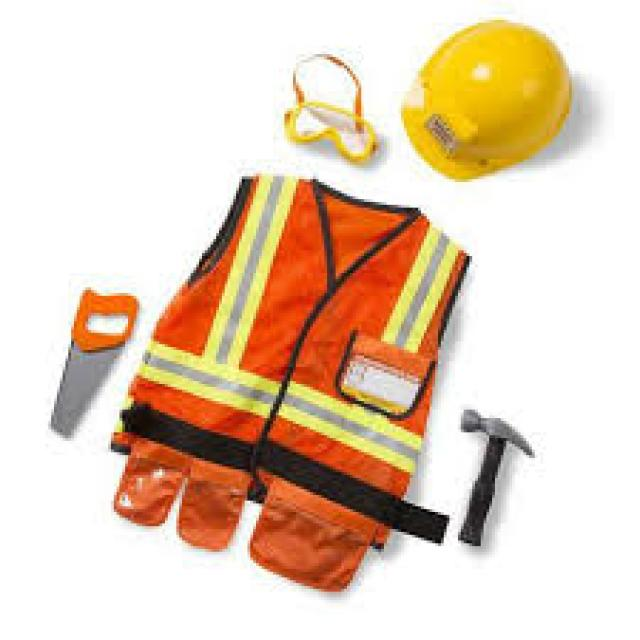Reflective-Jacket: (105, 165, 484, 560)
Safety-Helmet: (390, 11, 580, 188)
